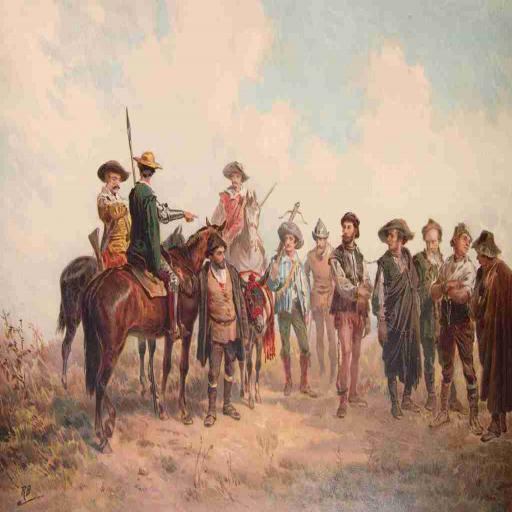horse: (82, 217, 224, 454), (53, 222, 181, 392), (224, 189, 270, 409)
